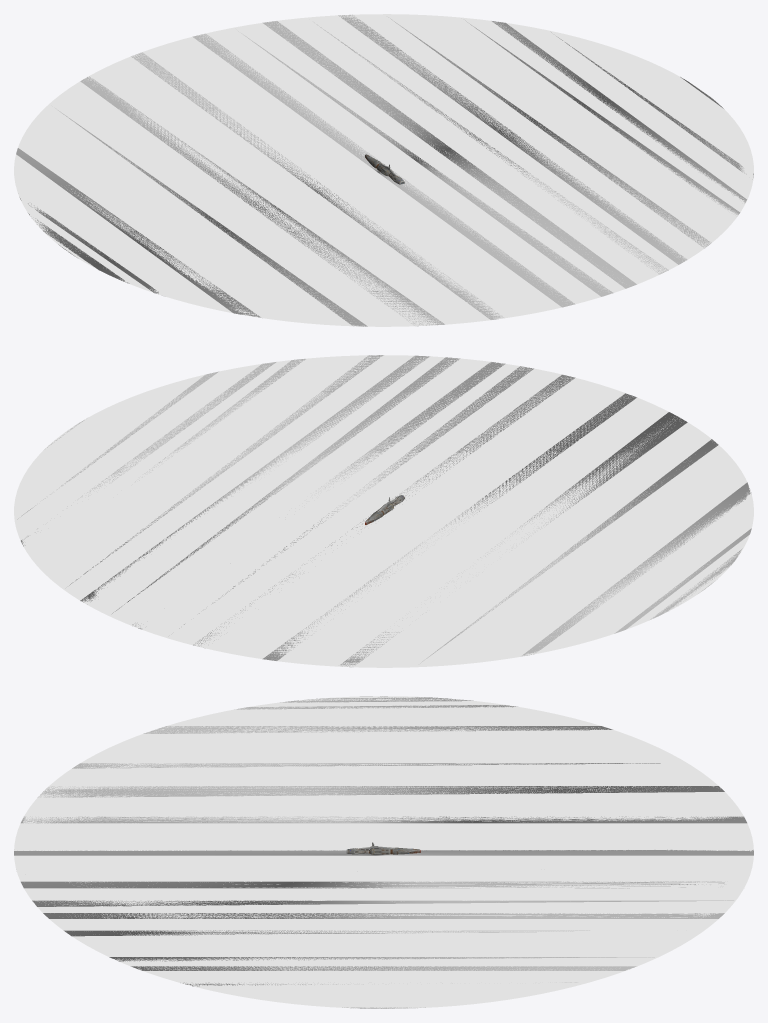
Rendered from yao_cf_homi_01_t1.glb.
3 views of the same model, one above another, from view 1: azimuth 30°, elevation 25°; view 2: azimuth 150°, elevation 25°; view 3: azimuth 270°, elevation 25° (orthographic).
Parts seen in each view (by area): view 1: torpedoDangerZone, AggroIndicatorEnemy; view 2: torpedoDangerZone, AggroIndicatorEnemy; view 3: torpedoDangerZone, AggroIndicatorEnemy, yao_deep_space_torpedo_LOD0.
Part boxes in pixels (x1,y1,x2,y2): torpedoDangerZone: (14,14,753,326); AggroIndicatorEnemy: (16,14,753,326); torpedoDangerZone: (14,355,753,667); AggroIndicatorEnemy: (17,355,751,667); torpedoDangerZone: (14,696,753,1008); AggroIndicatorEnemy: (14,696,753,1008); yao_deep_space_torpedo_LOD0: (346,842,420,854).
Size of what is drawn, in the model's own units: 20 by 0.459 by 20.
Materials: 3 (2 with a texture image).
